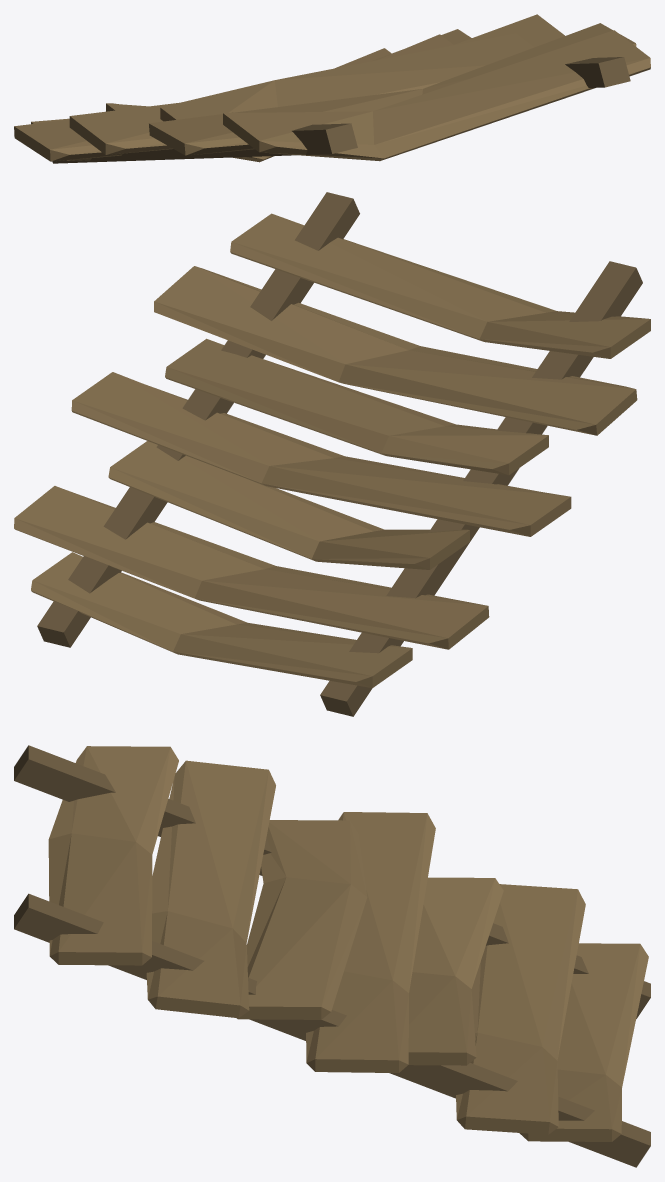
File: SM_Bld_Rickety_Dock_Stairs_01.glb
3 views of the same model, one above another, from view 1: azimuth 30°, elevation 25°; view 2: azimuth 150°, elevation 25°; view 3: azimuth 270°, elevation 25° (orthographic). The views are drawn at different scales.
Parts seen in each view (by area): view 1: SM_Bld_Rickety_Dock_Stairs_01_part00; view 2: SM_Bld_Rickety_Dock_Stairs_01_part00; view 3: SM_Bld_Rickety_Dock_Stairs_01_part00.
Boxes of the visible parts, <box> form: SM_Bld_Rickety_Dock_Stairs_01_part00: <box>14,14,650,163</box>; SM_Bld_Rickety_Dock_Stairs_01_part00: <box>14,192,650,716</box>; SM_Bld_Rickety_Dock_Stairs_01_part00: <box>14,745,650,1167</box>.
Bounding box in the file's own units: 1.68 × 0.8208 × 1.82.
1 material, 1 textured.
